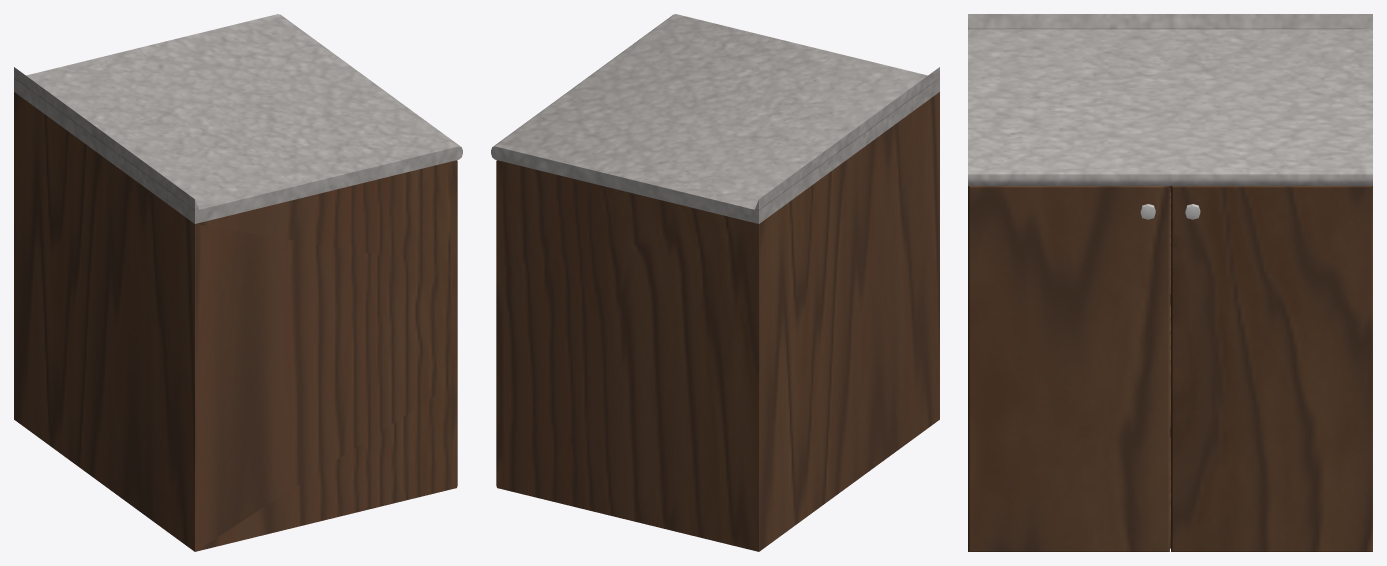
Rendered from Cabinet2.glb.
3 renders of one model, left to right at view 1: azimuth 30°, elevation 25°; view 2: azimuth 150°, elevation 25°; view 3: azimuth 270°, elevation 25°, orthographic. The views are drawn at different scales.
Parts seen in each view (by area): view 1: KitchenCabinet2; view 2: KitchenCabinet2; view 3: KitchenCabinet2.
Boxes of the visible parts, box(x1,y1,x2,y2) form: KitchenCabinet2: box(14, 14, 462, 551); KitchenCabinet2: box(491, 14, 939, 551); KitchenCabinet2: box(968, 14, 1372, 551).
Size of the model in its own units: 0.6921 by 0.8606 by 0.8.
1 material, 1 textured.
